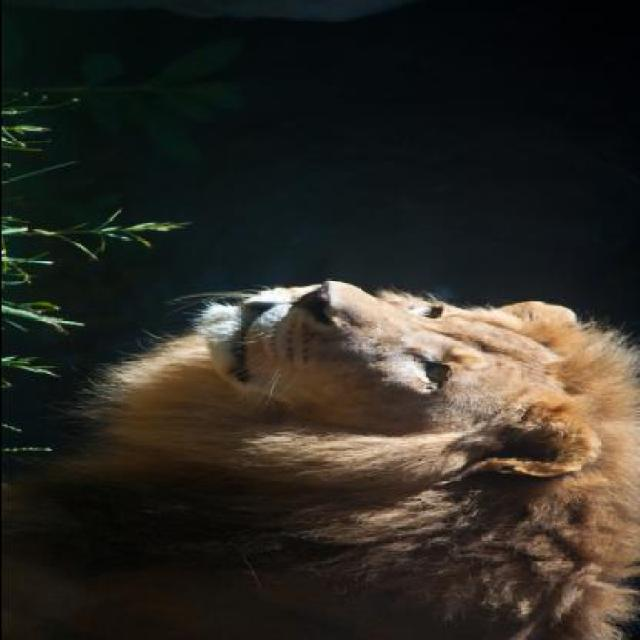Lion: (1, 250, 638, 638)
